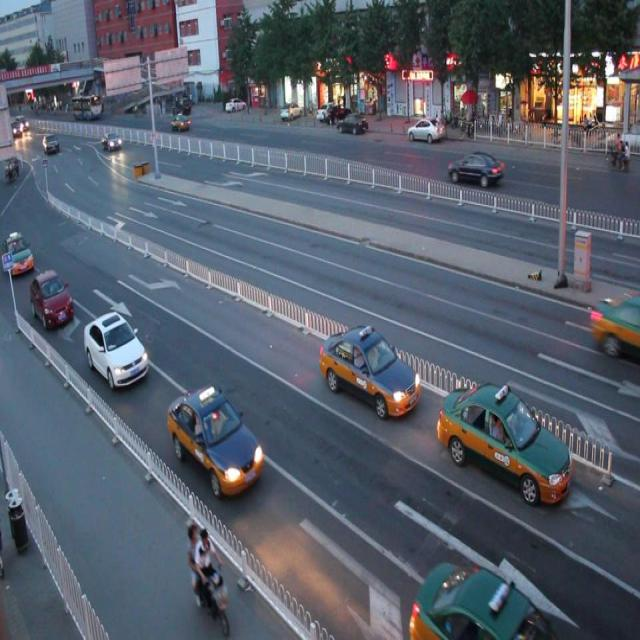car: (438, 379, 572, 503), (407, 560, 561, 640), (167, 385, 263, 498), (318, 322, 419, 416), (82, 309, 150, 391), (587, 287, 640, 360), (30, 270, 74, 331), (448, 150, 503, 188)
